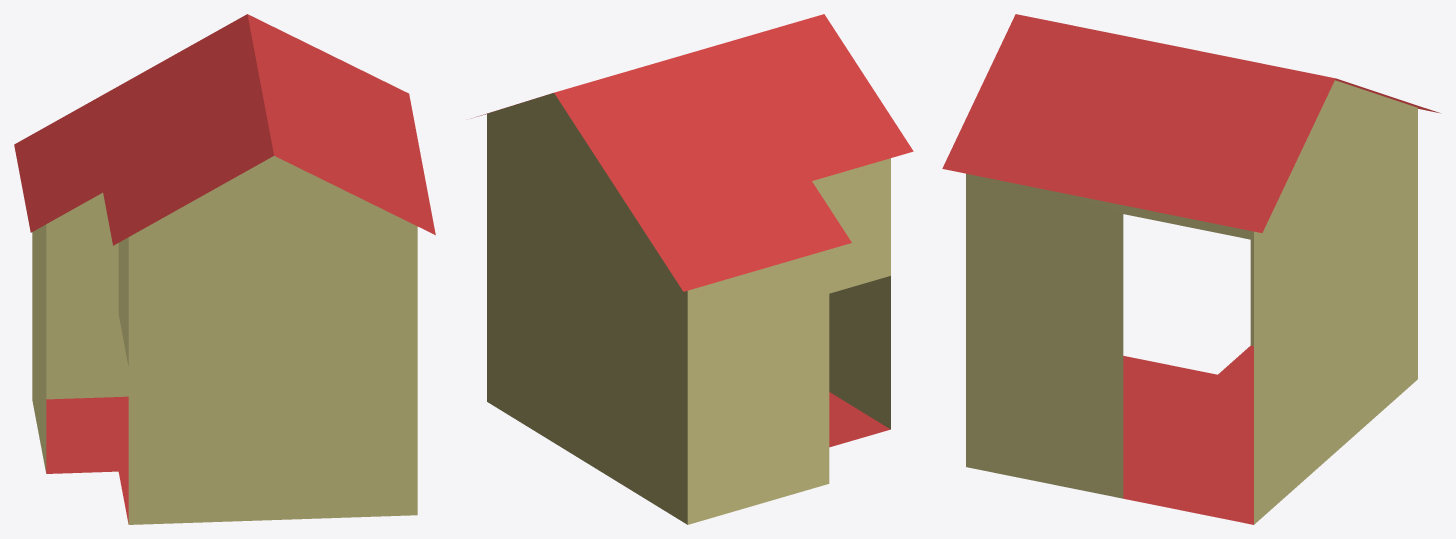
3 renders of one model, left to right at view 1: azimuth 30°, elevation 25°; view 2: azimuth 150°, elevation 25°; view 3: azimuth 270°, elevation 25°, orthographic. The views are drawn at different scales.
Size of the model in its own units: 13.26 by 14.03 by 12.13.
